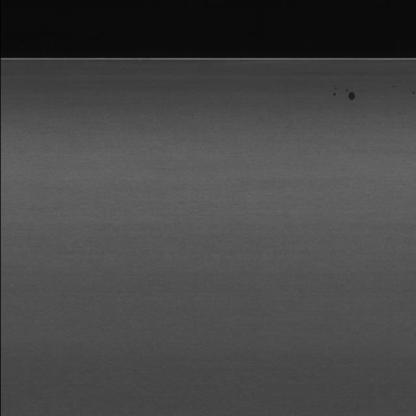oil_spot: (330, 86, 365, 107)
